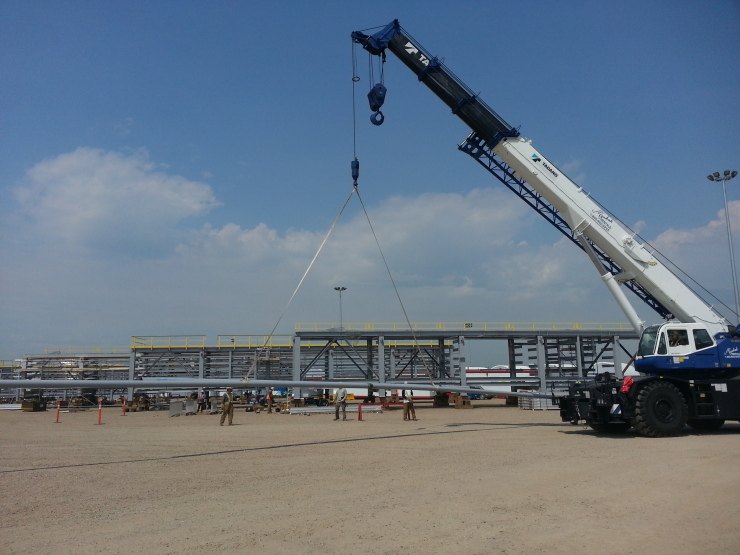crane: (348, 17, 740, 440)
